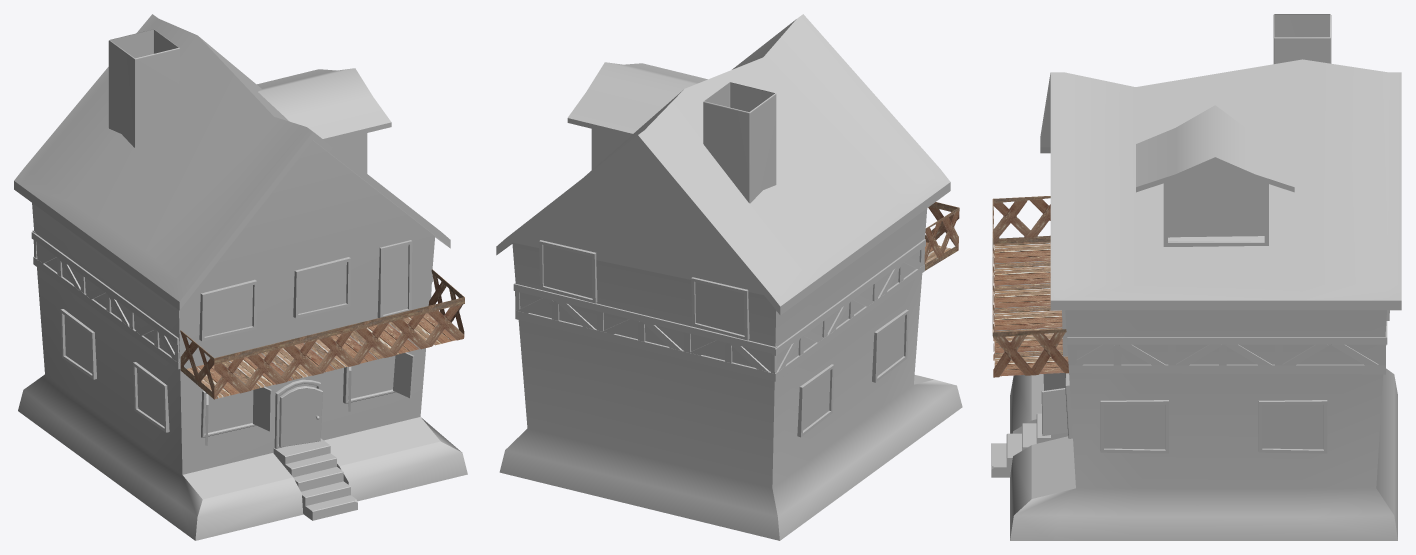
File: FantasyHouse.fbx
3 views of the same model, side by side, from view 1: azimuth 30°, elevation 25°; view 2: azimuth 150°, elevation 25°; view 3: azimuth 270°, elevation 25° (orthographic). The views are drawn at different scales.
Visible parts, largest first — view 1: FantasyHouse, Balcony; view 2: FantasyHouse, Balcony; view 3: FantasyHouse, Balcony.
Part boxes in pixels (left/top/right/bottom): FantasyHouse: left=14, top=14, right=467, bottom=540; Balcony: left=180, top=269, right=464, bottom=399; FantasyHouse: left=496, top=14, right=962, bottom=540; Balcony: left=924, top=202, right=959, bottom=270; FantasyHouse: left=991, top=14, right=1401, bottom=540; Balcony: left=992, top=196, right=1068, bottom=377.
Size of the model in its own units: 13.26 by 17.4 by 15.63.
